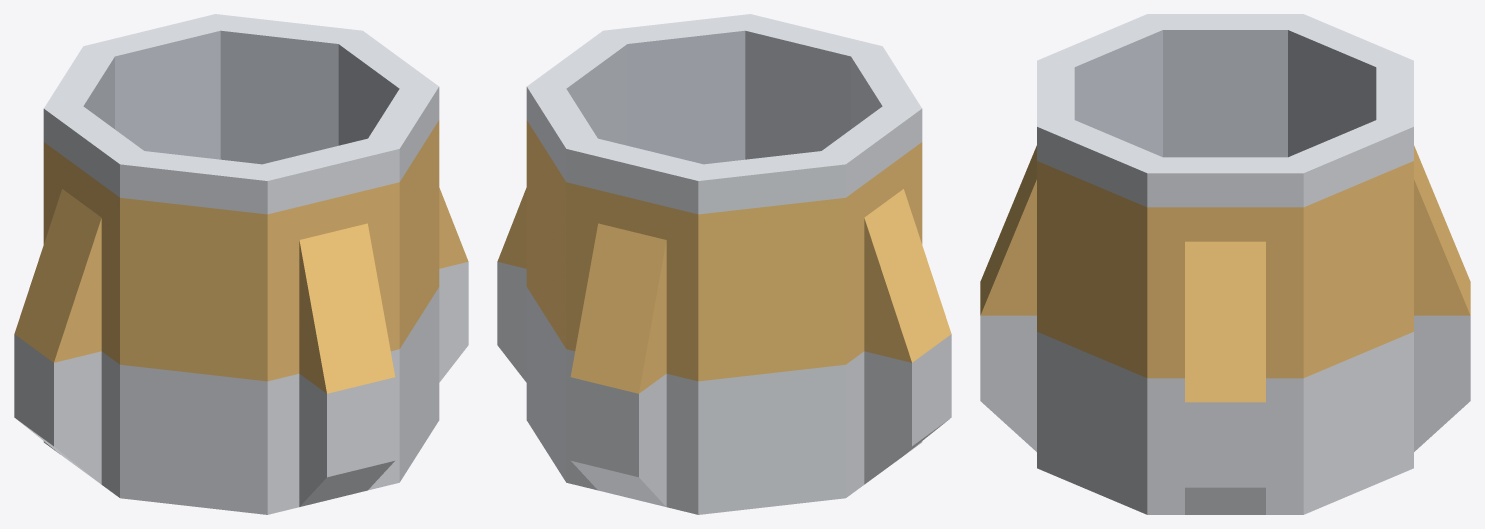
File: rocket_sidesB.glb
3 renders of one model, left to right at view 1: azimuth 30°, elevation 25°; view 2: azimuth 150°, elevation 25°; view 3: azimuth 270°, elevation 25°, orthographic. The views are drawn at different scales.
Parts seen in each view (by area): view 1: rocket_sidesB; view 2: rocket_sidesB; view 3: rocket_sidesB.
Boxes of the visible parts, box(x1,y1,x2,y2) form: rocket_sidesB: box(14, 14, 468, 514); rocket_sidesB: box(497, 14, 951, 514); rocket_sidesB: box(980, 14, 1470, 514).
Bounding box in the file's own units: 1.3 × 1 × 1.3.
